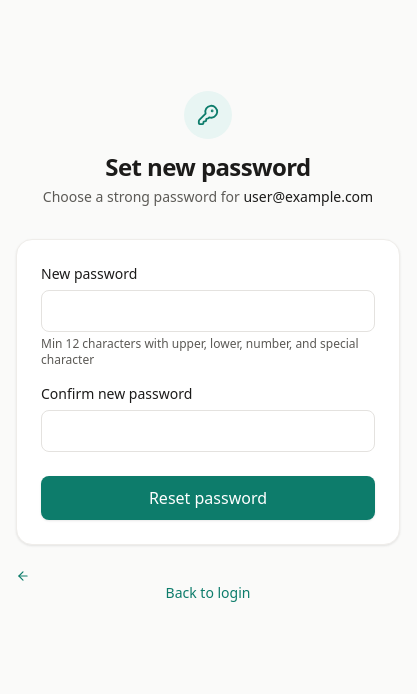
it: ResetPasswordPage › rejects mismatched confirm password client-side
Type "Str0ng!Passw0rd" into the password field labelled "New password" at {"x": 208, "y": 311}, box [41,290,375,332]
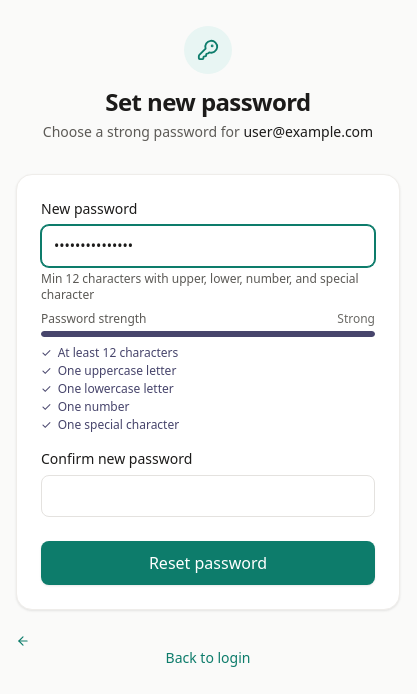
Type "Different1!" into the password field labelled "Confirm new password" at {"x": 208, "y": 496}, box [41,475,375,517]
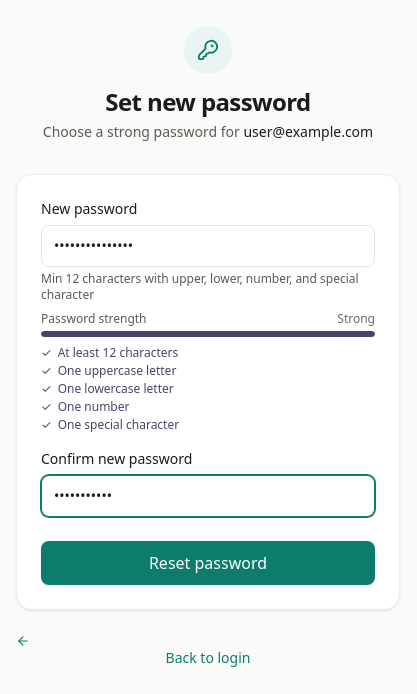
Click the button "Reset password" at {"x": 208, "y": 563}, box [41,541,375,585]
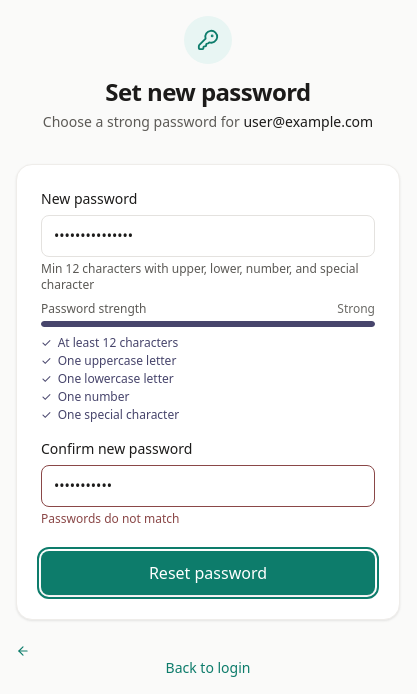
Expected: the text "Passwords do not match" is shown, [41,510,180,527]
